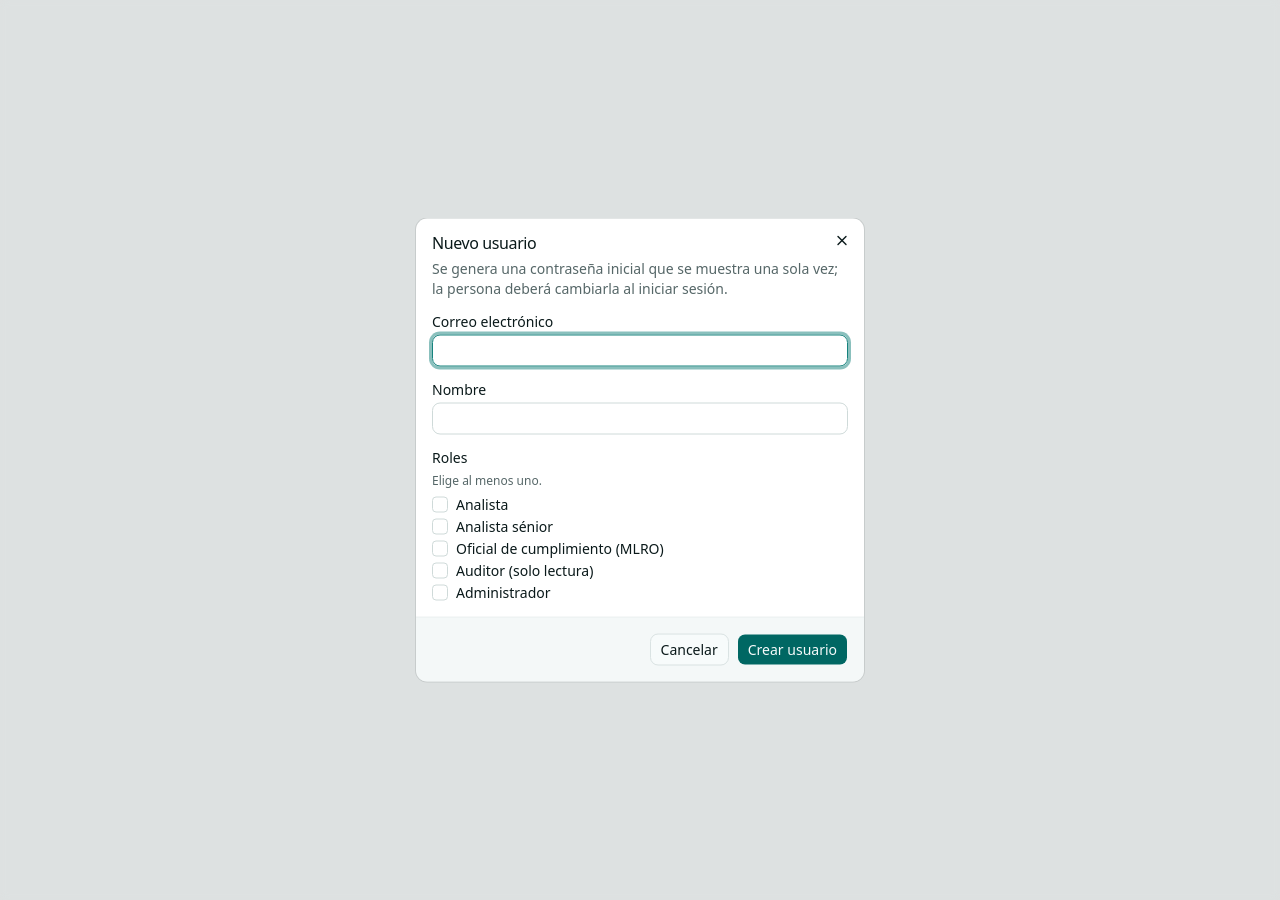
Test: CreateStaffDialog: the form › requires every field and sends nothing while one is missing
Click the button "Crear usuario" at (792, 650), box [737,634,848,666]
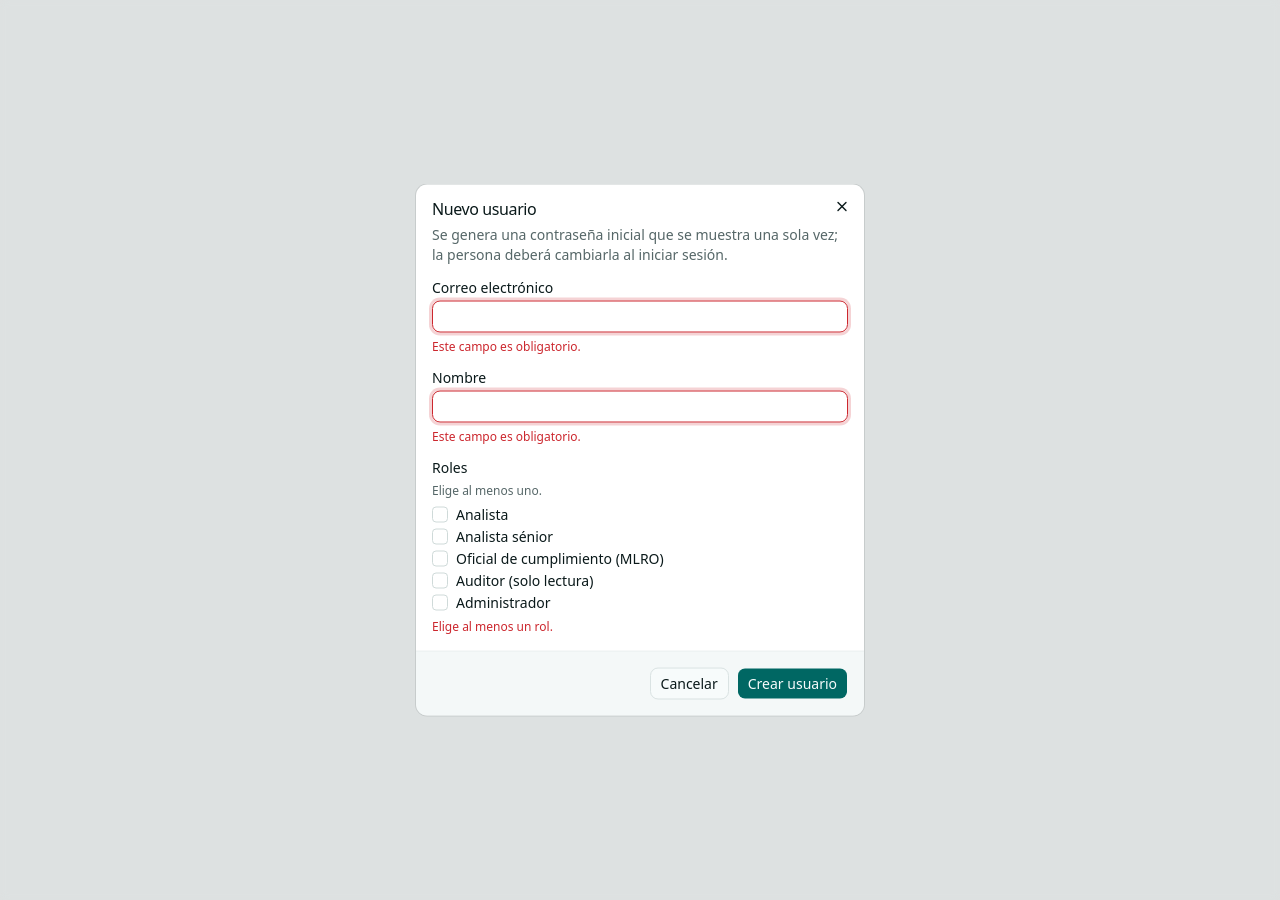
Expected: the text "Este campo es obligatorio." is shown 2 times, [432,338,581,354]; [432,428,581,444]
Expected: the text "Elige al menos un rol." is shown, [432,618,553,634]
